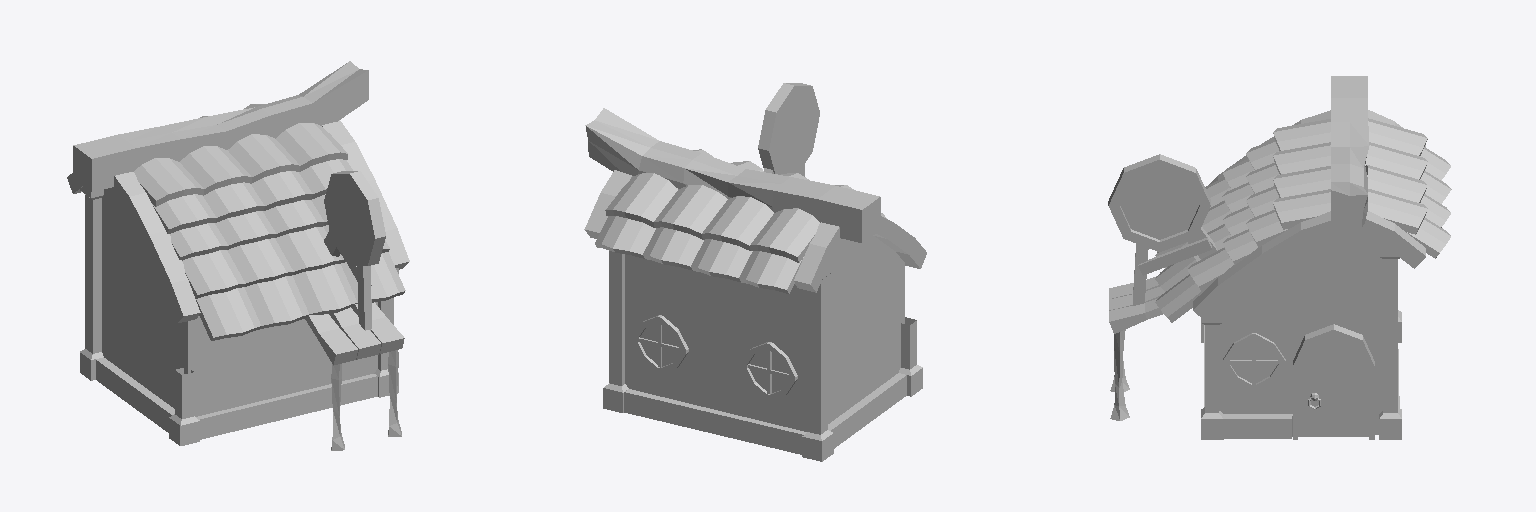
The model's file is MailCentre.obj.
3 views of the same model, side by side, from view 1: azimuth 30°, elevation 25°; view 2: azimuth 150°, elevation 25°; view 3: azimuth 270°, elevation 25° (orthographic).
Parts seen in each view (by area): view 1: House_Window.001; view 2: House_Window.001; view 3: House_Window.001.
Boxes of the visible parts, <box> form: House_Window.001: <box>67,61,409,450</box>; House_Window.001: <box>584,83,926,461</box>; House_Window.001: <box>1108,76,1451,439</box>.
Bounding box in the file's own units: 3.91 × 3.6 × 4.2.